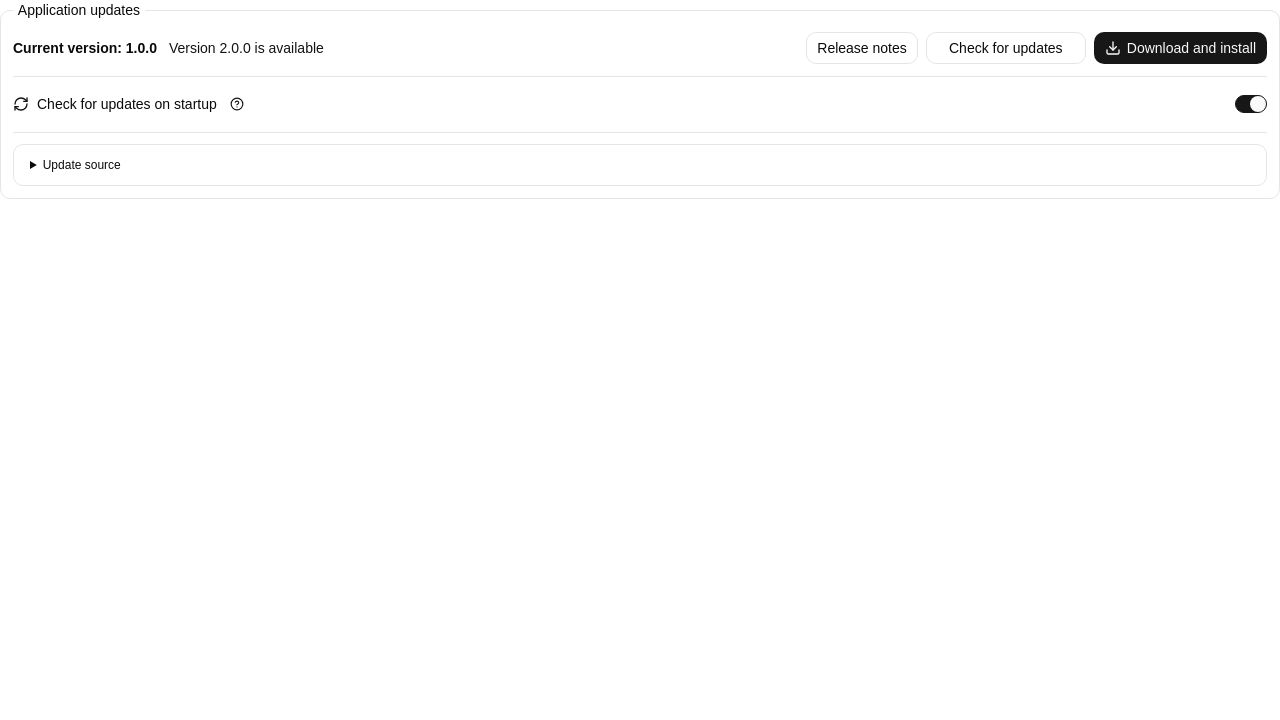
updater controls › shows a useful release-notes empty state for body null
Click the button "Release notes" at coordinates (862, 48), box [806,32,918,64]
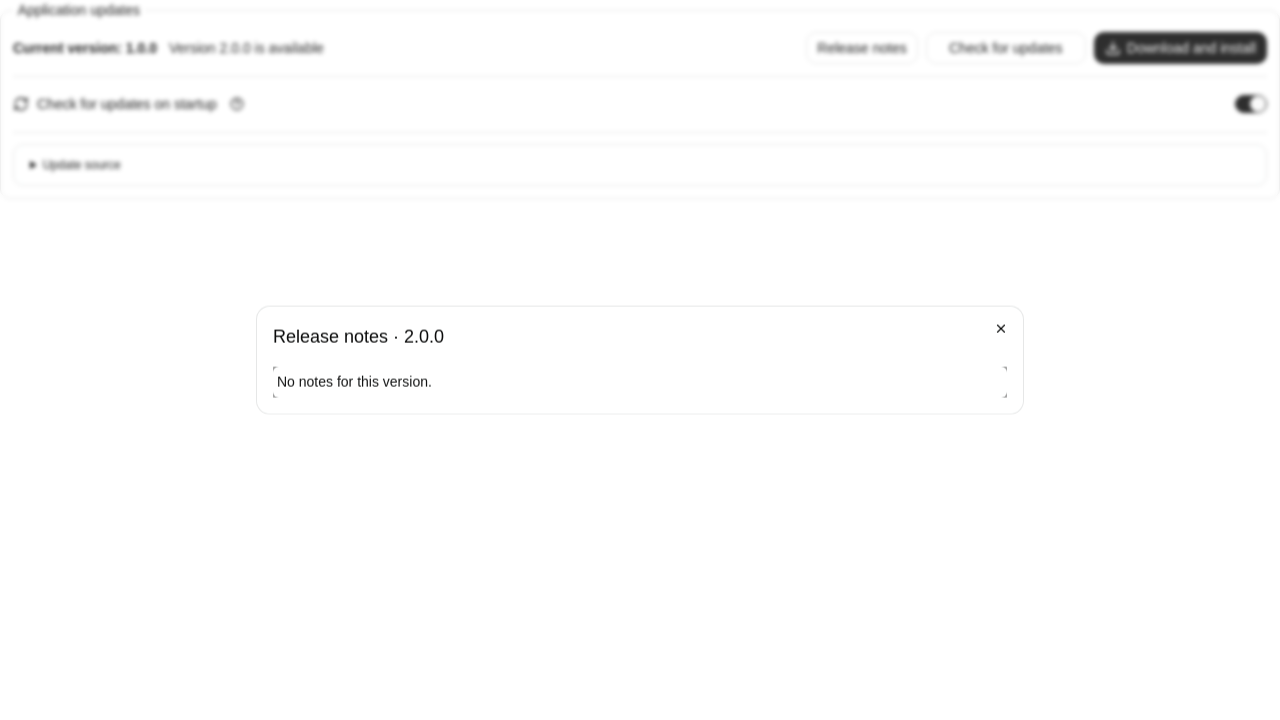
Now the text "No notes for this version." is shown, box [277,374,432,390]
